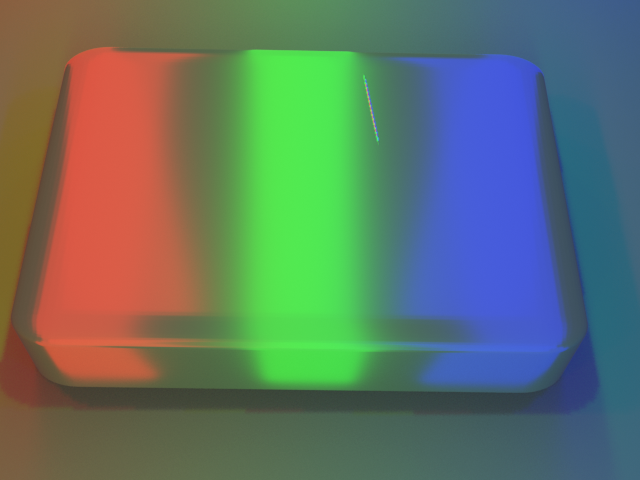scratch: (215, 33, 537, 183)
